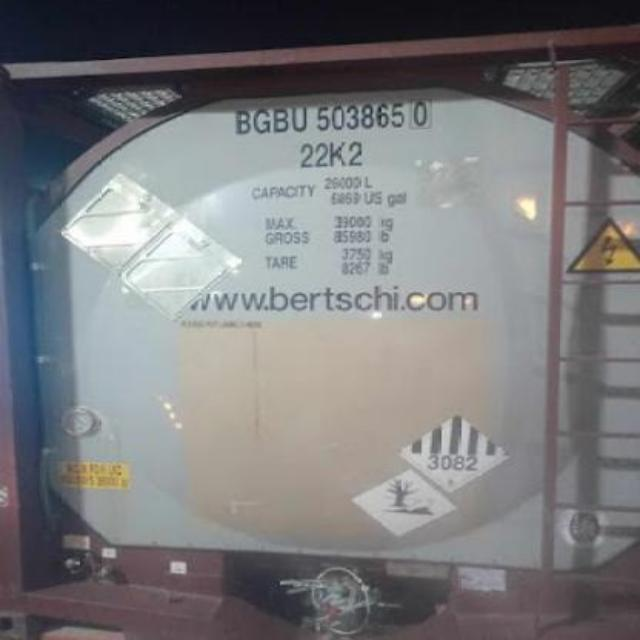0: (412, 99, 430, 128), (330, 105, 346, 131)
3: (346, 104, 359, 128)
5: (390, 100, 406, 130), (314, 106, 330, 132)
6: (376, 102, 389, 130)
8: (360, 104, 376, 130)
B: (272, 108, 290, 134), (235, 109, 251, 135)
G: (252, 108, 272, 136)
U: (290, 105, 310, 132)
